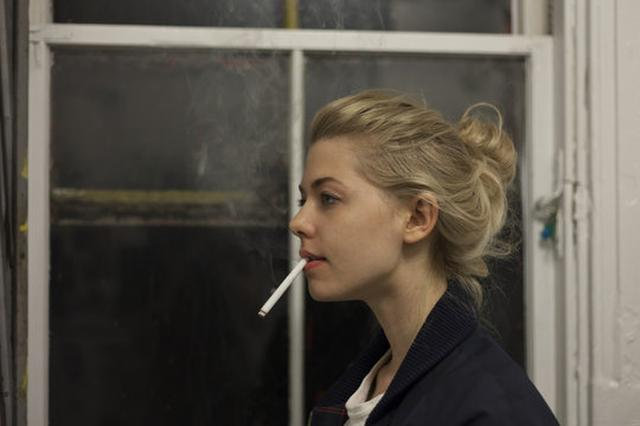Cigarette: (256, 256, 308, 318)
